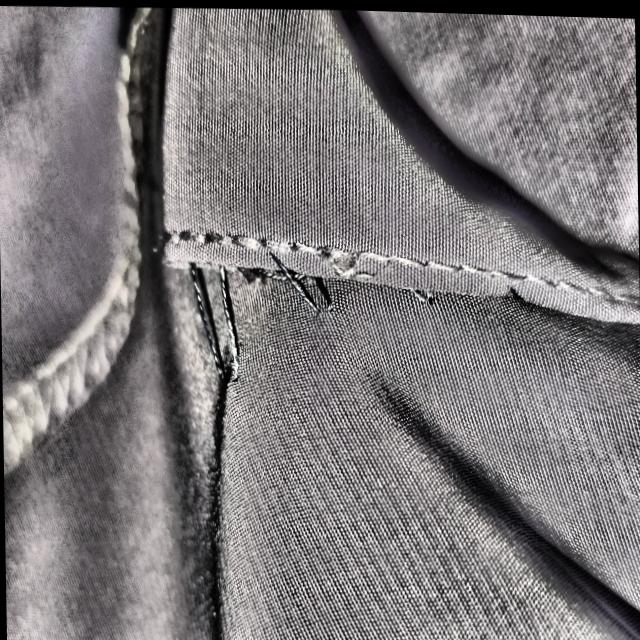Stitch: (177, 199, 348, 401)
